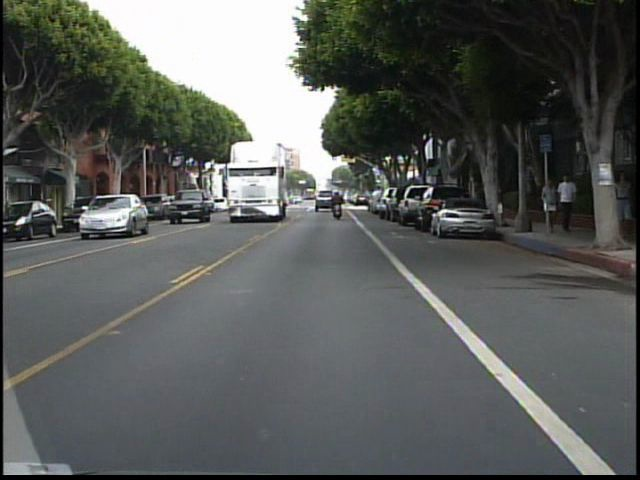person: (613, 171, 635, 239), (557, 173, 577, 236), (539, 175, 558, 233), (328, 189, 348, 220)
